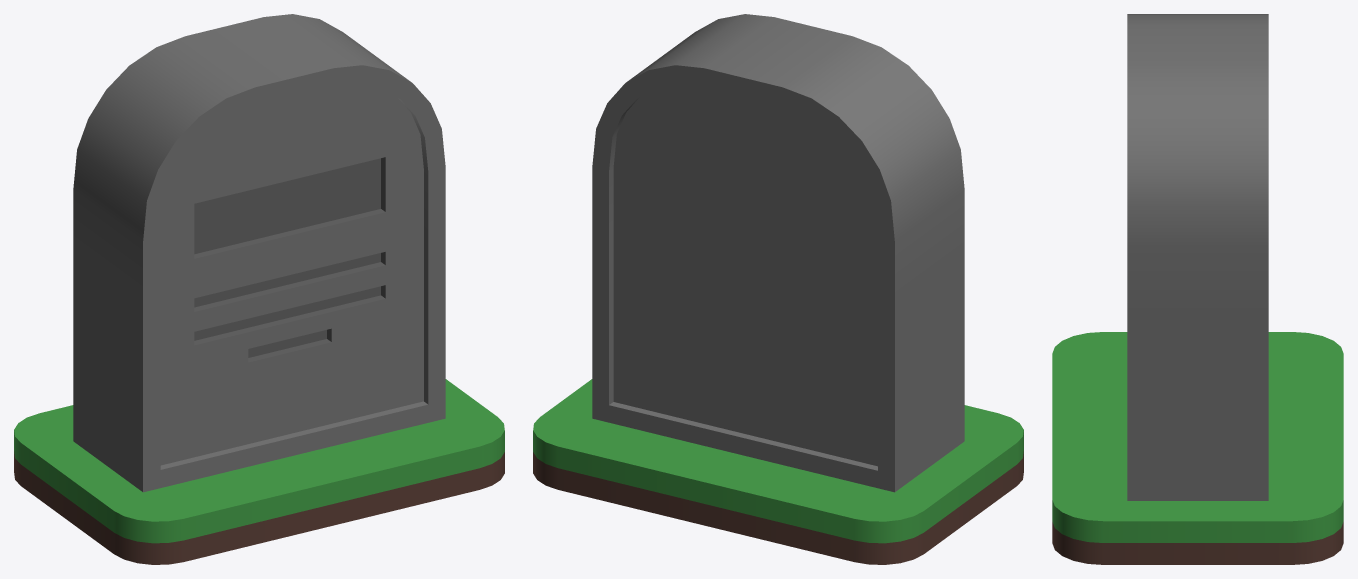
Rendered from headstone.glb.
3 views of the same model, side by side, from view 1: azimuth 30°, elevation 25°; view 2: azimuth 150°, elevation 25°; view 3: azimuth 270°, elevation 25° (orthographic).
Parts seen in each view (by area): view 1: Cylinder.515; view 2: Cylinder.515; view 3: Cylinder.515.
Boxes of the visible parts, bbox=[...] form: Cylinder.515: bbox=[14, 14, 504, 564]; Cylinder.515: bbox=[533, 14, 1023, 564]; Cylinder.515: bbox=[1052, 14, 1343, 564].
Bounding box in the file's own units: 1.78 × 1.86 × 1.16.
Materials: 1 (1 with a texture image).
